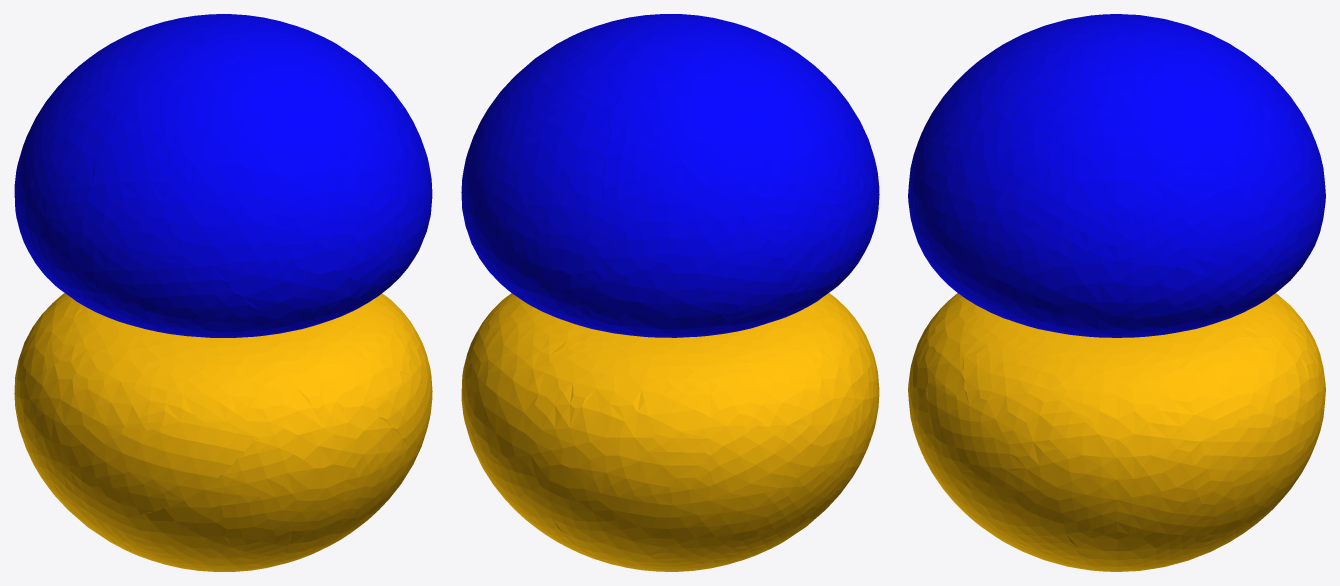
3 renders of one model, left to right at view 1: azimuth 30°, elevation 25°; view 2: azimuth 150°, elevation 25°; view 3: azimuth 270°, elevation 25°, orthographic.
Size of the model in its own units: 8.8 by 11.95 by 8.79.
